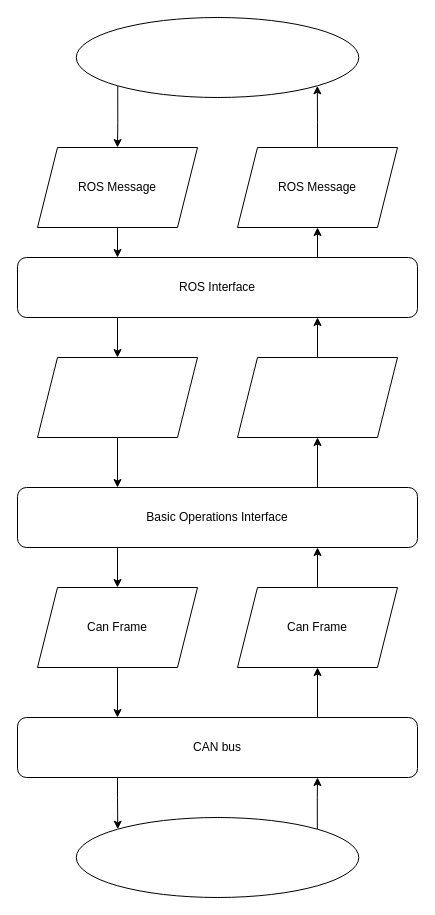
This 435x915 diagram has some shape labels left out. The shapes that lost their labels are listed below. From the top down, each one's box as (x1, y1, x2, y2) in pixels, then its label:
(75, 16, 359, 98): User
(36, 356, 198, 438): Platform Command
(236, 356, 398, 438): Platform Message
(75, 816, 359, 898): Robot
